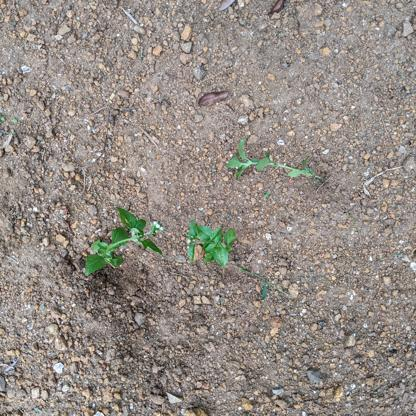weed: (228, 135, 325, 196), (84, 205, 166, 277), (183, 216, 240, 269)
